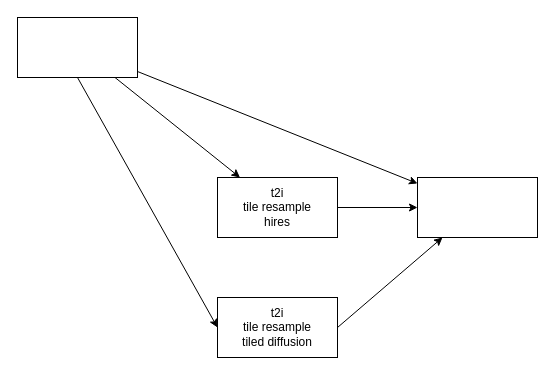
This 555x375 diagram has some shape labels left out. The shapes that lost their labels are listed below. From the top down, each one's centre as x and y in pixels, then its label:
point (77, 47): t2i generate base image
point (477, 207): i2i tile resample tiled diffusion
